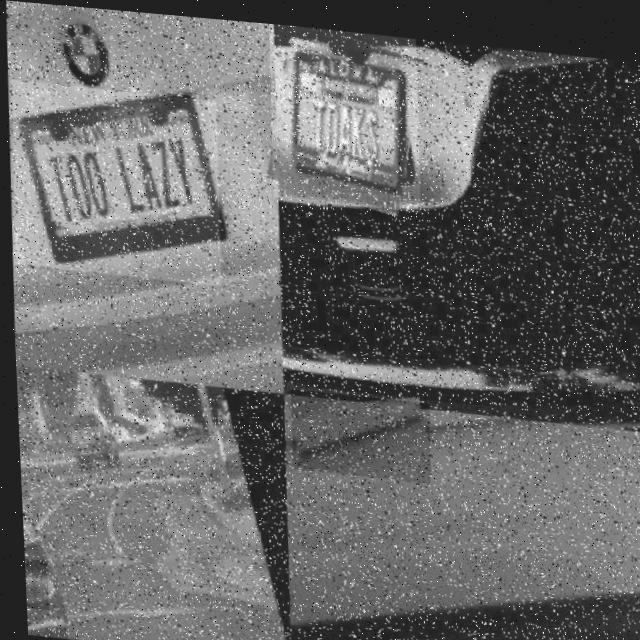LicensePlate: (12, 95, 218, 267), (265, 19, 421, 205), (286, 384, 428, 475), (19, 558, 43, 609), (75, 440, 83, 446)
